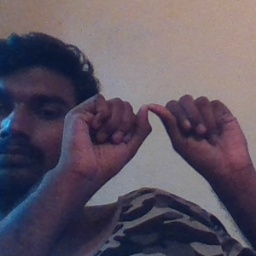A: (81, 85, 230, 178)
